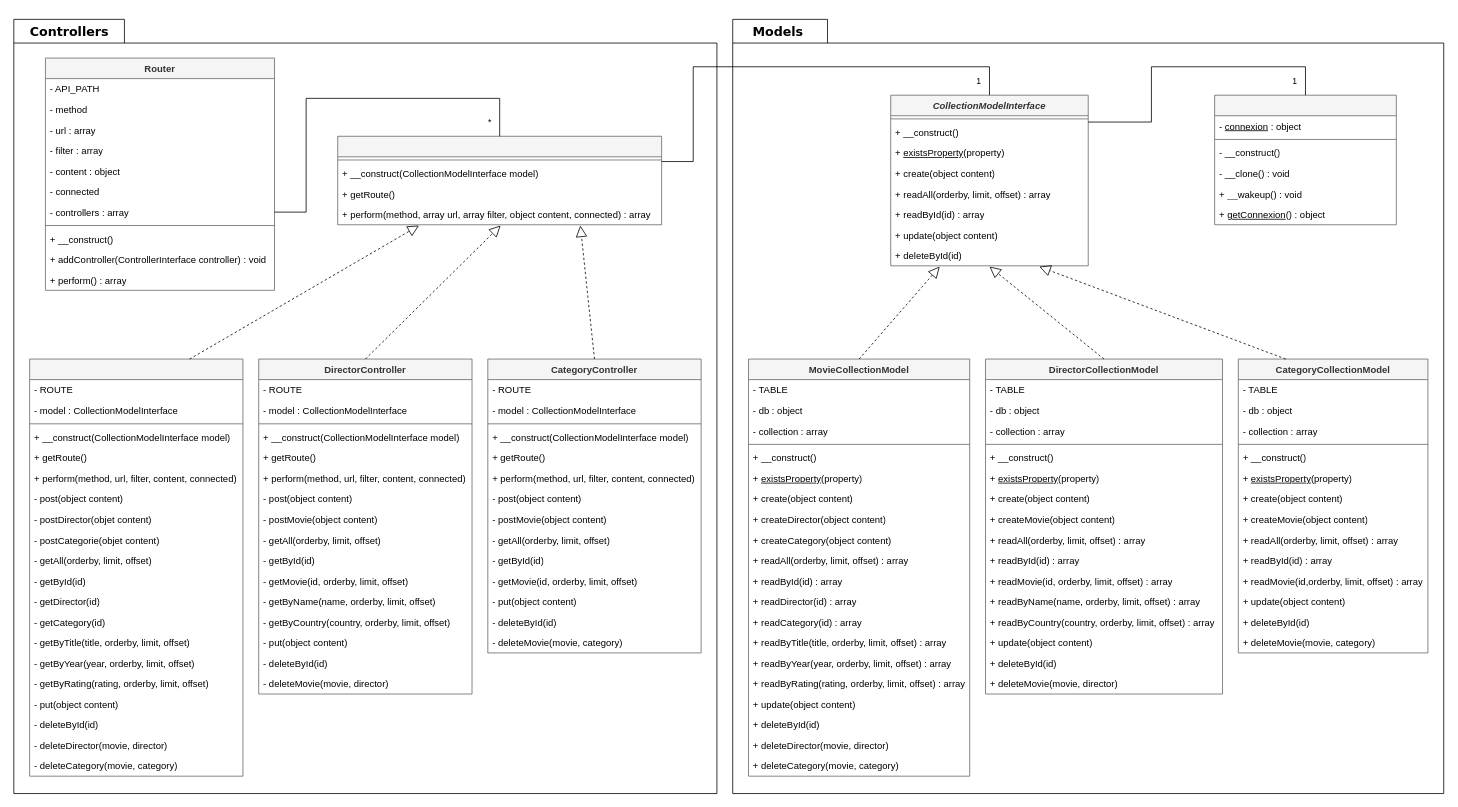
This 1458x807 diagram has some shape labels left out. Here are the shapes that lost their labels. From the top down, the box of each, then its label:
(1214, 94, 1396, 225): Database
(337, 135, 662, 225): ControllerInterface
(29, 358, 243, 776): MovieController
